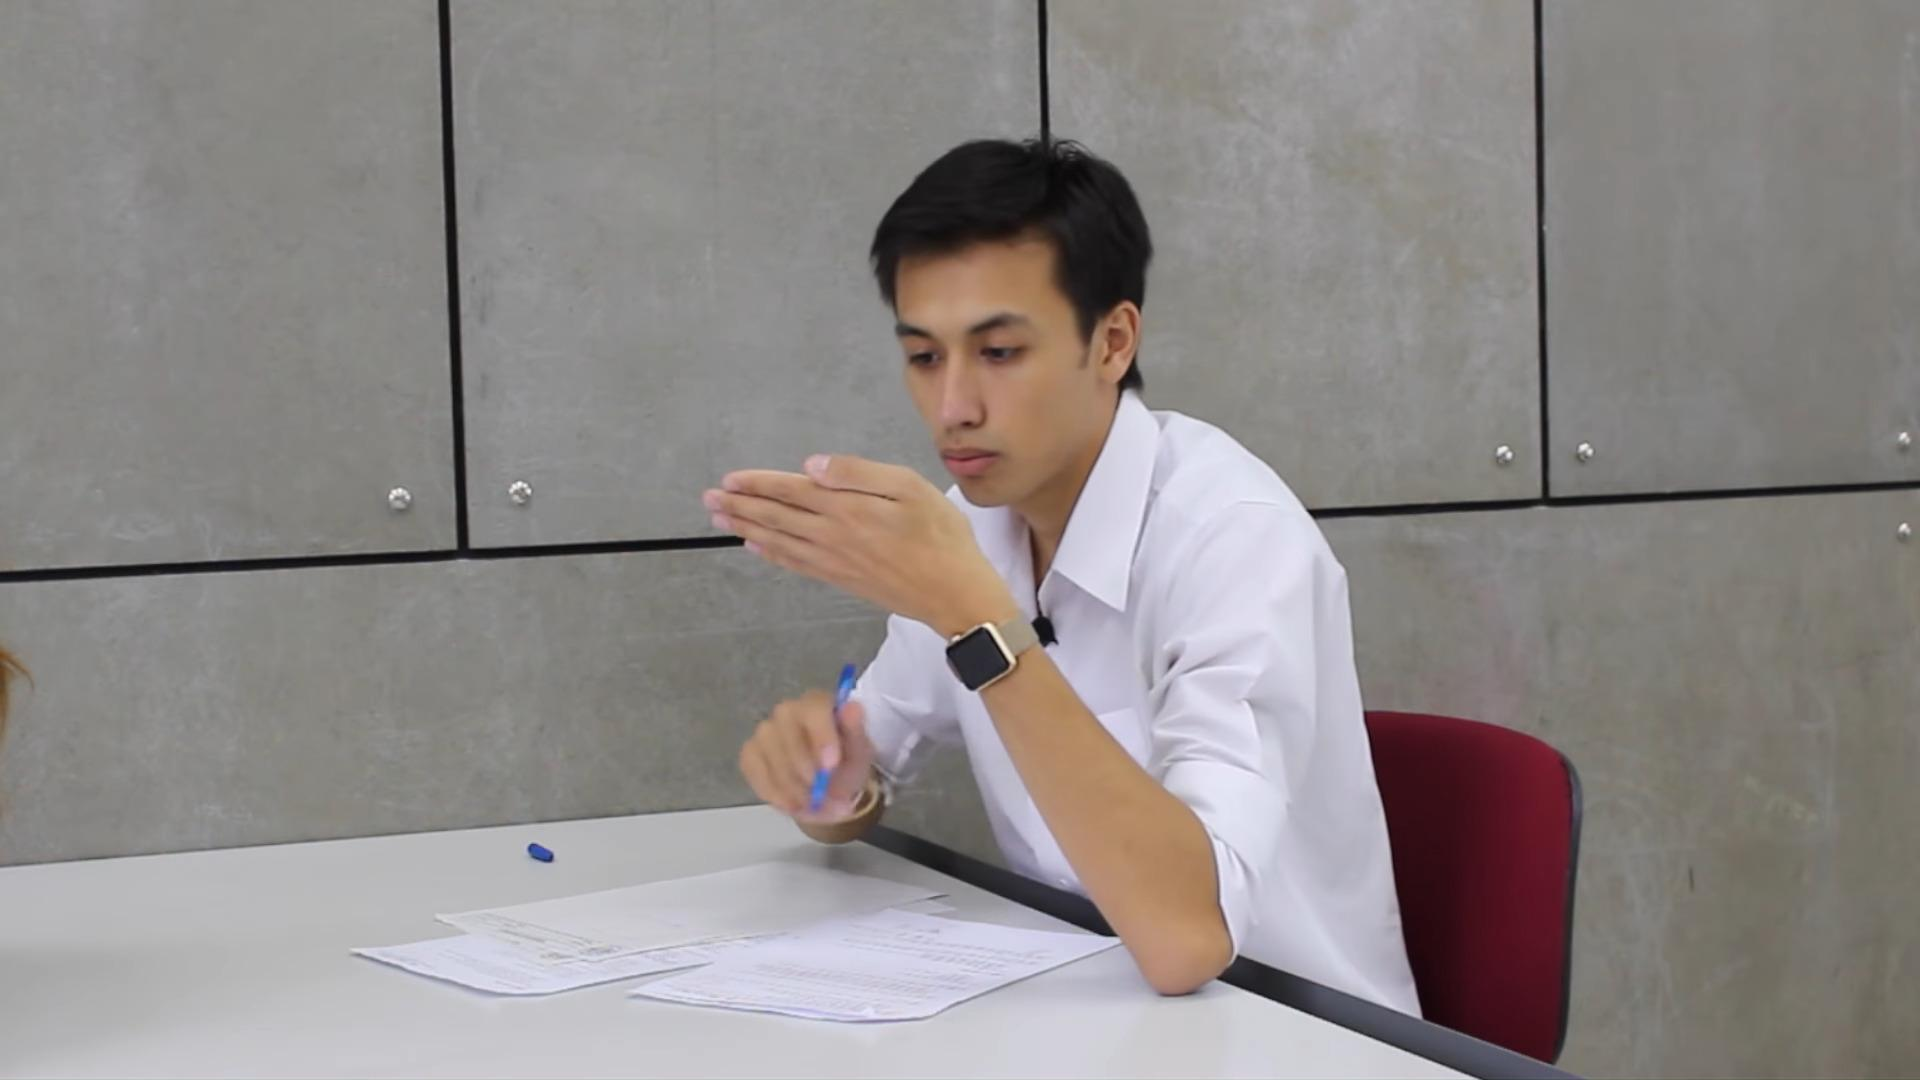cheating: (306, 123, 1451, 1050)
